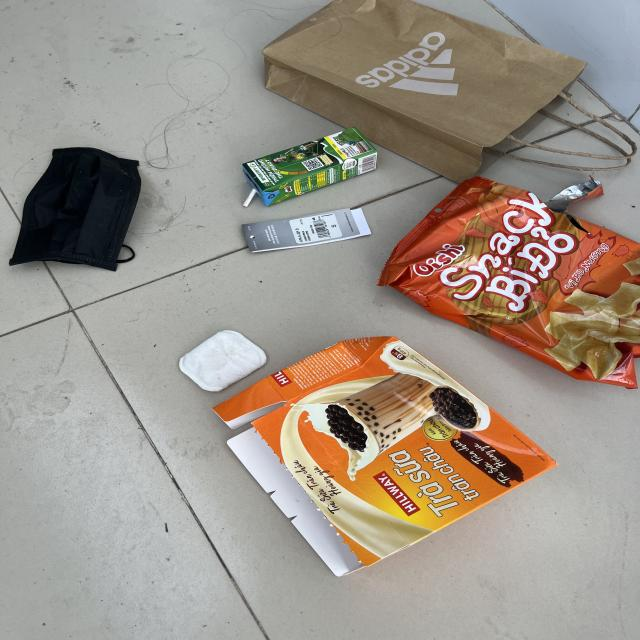bag: (262, 0, 640, 184)
cardboard box: (209, 335, 562, 577)
mask: (9, 147, 143, 271)
milk box: (242, 126, 378, 206)
paper: (242, 207, 374, 254)
snack package: (375, 175, 640, 390)
